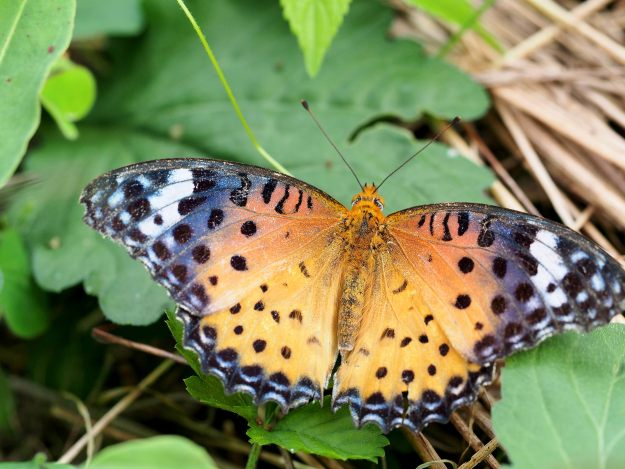Argyreus hyperbius: (73, 94, 623, 441)
butterfly: (75, 96, 625, 443)
